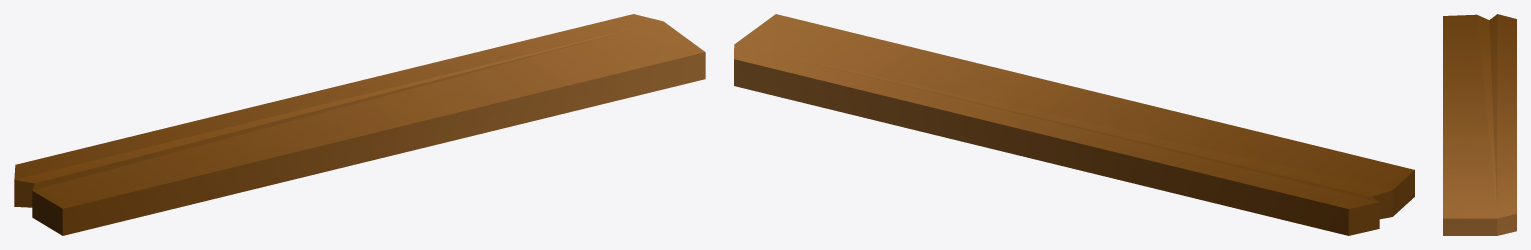
File: Wood_Plank_C.fbx
3 renders of one model, left to right at view 1: azimuth 30°, elevation 25°; view 2: azimuth 150°, elevation 25°; view 3: azimuth 270°, elevation 25°, orthographic. The views are drawn at different scales.
Parts seen in each view (by area): view 1: Wood_Plank_C; view 2: Wood_Plank_C; view 3: Wood_Plank_C.
Part boxes in pixels (bbox=[...]): Wood_Plank_C: bbox=[14, 14, 705, 235]; Wood_Plank_C: bbox=[734, 14, 1414, 235]; Wood_Plank_C: bbox=[1443, 14, 1516, 235].
Size of the model in its own units: 173 by 26.3 by 6.87.
Materials: 1 (1 with a texture image).
